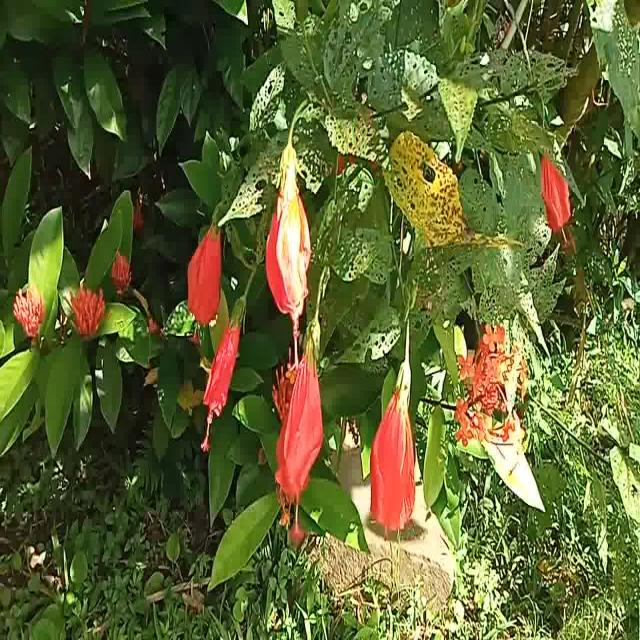Flower: (274, 338, 326, 545), (366, 361, 418, 542), (267, 140, 313, 343), (196, 297, 248, 452), (183, 203, 225, 330), (541, 149, 569, 234)
